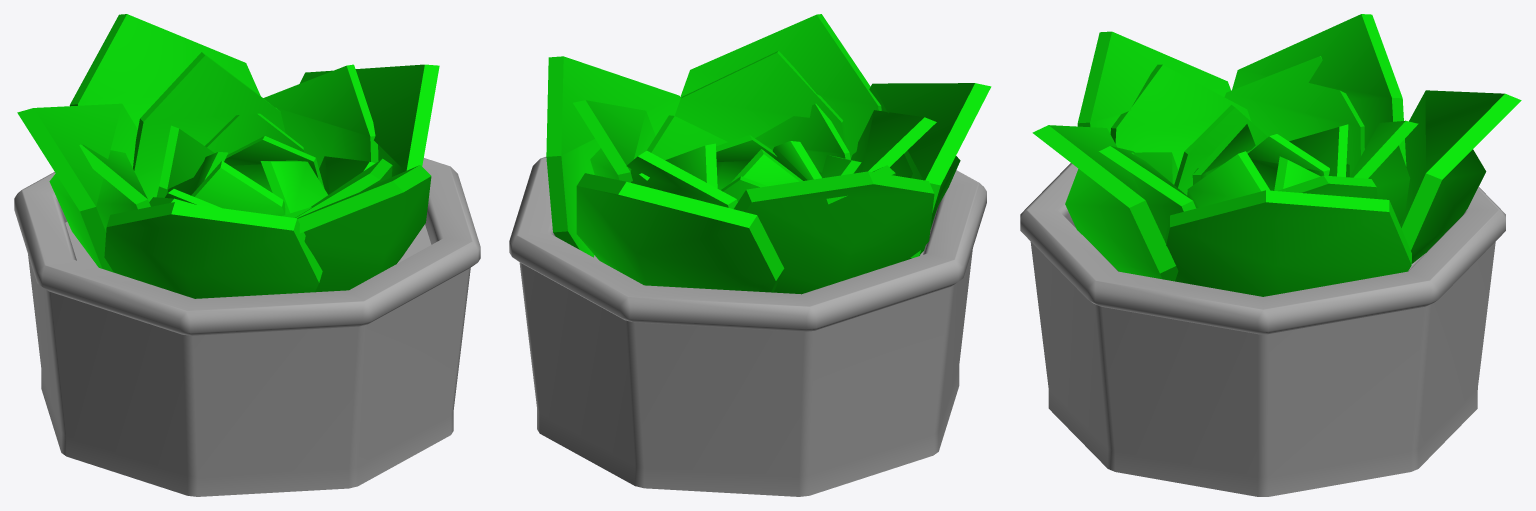
File: pot_plant_2.fbx
The picture shows the model from 3 angles, left to right: view 1: azimuth 30°, elevation 25°; view 2: azimuth 150°, elevation 25°; view 3: azimuth 270°, elevation 25°; orthographic projection. The views are drawn at different scales.
Parts seen in each view (by area): view 1: pot_plant2; view 2: pot_plant2; view 3: pot_plant2.
Part boxes in pixels (box(x1,y1,x2,y2)): pot_plant2: box(14, 14, 480, 496); pot_plant2: box(509, 14, 991, 496); pot_plant2: box(1020, 14, 1521, 496).
Bounding box in the file's own units: 80.04 × 56.92 × 82.61.
